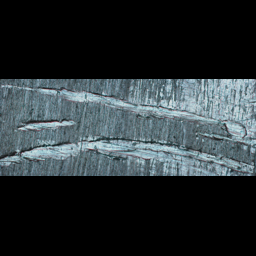d: (1, 80, 255, 153), (0, 136, 255, 176), (15, 116, 78, 134)
